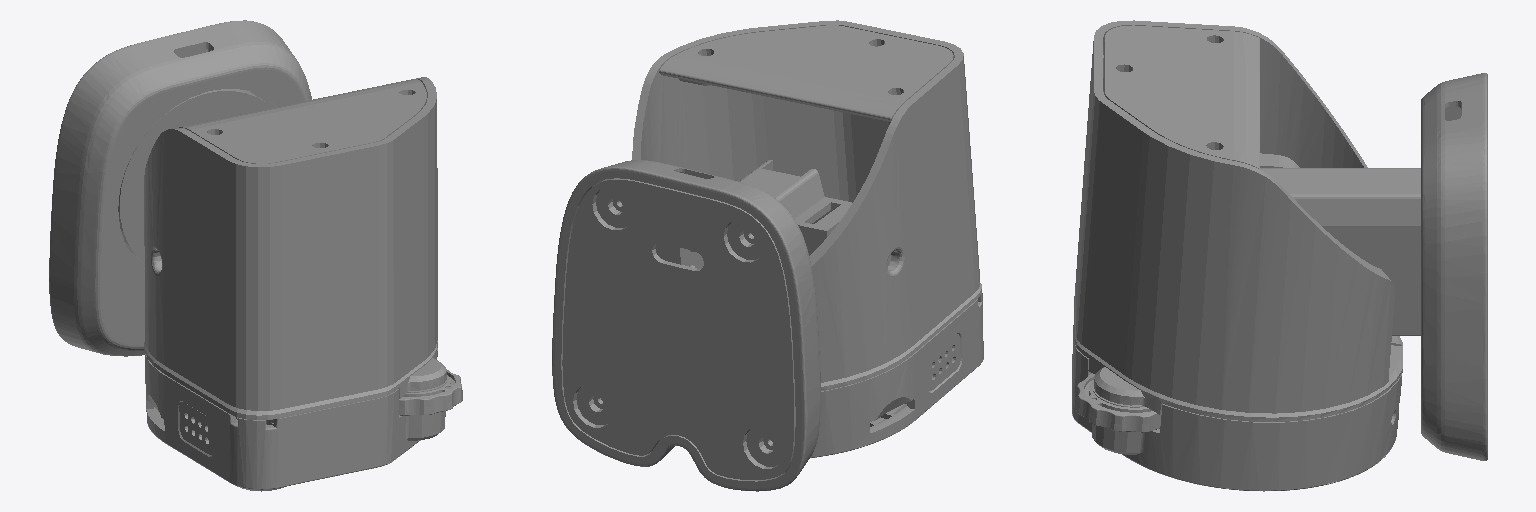
robot.urdf — lingks.SLDASM:
<?xml version="1.0" encoding="utf-8"?>
<!-- This URDF was automatically created by SolidWorks to URDF Exporter! Originally created by Stephen Brawner (brawner@gmail.com) 
     Commit Version: 1.6.0-4-g7f85cfe  Build Version: 1.6.7995.38578
     For more information, please see http://wiki.ros.org/sw_urdf_exporter -->
<robot
  name="lingks.SLDASM">
  <link
    name="base_link">
    <inertial>
      <origin
        xyz="-0.0212 -0.031716 -0.04433"
        rpy="0 0 0" />
      <mass
        value="0.026442" />
      <inertia
        ixx="1.2805E-05"
        ixy="2.4138E-08"
        ixz="2.3275E-09"
        iyy="1.1503E-05"
        iyz="9.7491E-09"
        izz="2.3676E-05" />
    </inertial>
    <visual>
      <origin
        xyz="0 0 0"
        rpy="0 0 0" />
      <geometry>
        <mesh
          filename="package://lingks.SLDASM/meshes/base_link.STL" />
      </geometry>
      <material
        name="">
        <color
          rgba="0.62745 0.62745 0.62745 1" />
      </material>
    </visual>
    <collision>
      <origin
        xyz="0 0 0"
        rpy="0 0 0" />
      <geometry>
        <mesh
          filename="package://lingks.SLDASM/meshes/base_link.STL" />
      </geometry>
    </collision>
  </link>
  <link
    name="link1">
    <inertial>
      <origin
        xyz="6.4754E-05 -0.001525 -0.019837"
        rpy="0 0 0" />
      <mass
        value="0.010597" />
      <inertia
        ixx="2.3063E-06"
        ixy="4.5099E-08"
        ixz="-3.6642E-09"
        iyy="3.0458E-06"
        iyz="1.7622E-07"
        izz="1.444E-06" />
    </inertial>
    <visual>
      <origin
        xyz="0 0 0"
        rpy="0 0 0" />
      <geometry>
        <mesh
          filename="package://lingks.SLDASM/meshes/link1.STL" />
      </geometry>
      <material
        name="">
        <color
          rgba="0.62745 0.62745 0.62745 1" />
      </material>
    </visual>
    <collision>
      <origin
        xyz="0 0 0"
        rpy="0 0 0" />
      <geometry>
        <mesh
          filename="package://lingks.SLDASM/meshes/link1.STL" />
      </geometry>
    </collision>
  </link>
  <joint
    name="joint1"
    type="continuous">
    <origin
      xyz="-0.0209999999996985 0 -0.0217499999996899"
      rpy="1.5707963267949 0.0367776961816941 0" />
    <parent
      link="base_link" />
    <child
      link="link1" />
    <axis
      xyz="0 0 1" />
  </joint>
  <link
    name="link2">
    <inertial>
      <origin
        xyz="-0.0012092 -0.014658 0.012456"
        rpy="0 0 0" />
      <mass
        value="0.050538" />
      <inertia
        ixx="2.4921E-05"
        ixy="-1.2583E-08"
        ixz="2.7527E-06"
        iyy="4.1334E-05"
        iyz="-1.9932E-06"
        izz="2.8613E-05" />
    </inertial>
    <visual>
      <origin
        xyz="0 0 0"
        rpy="0 0 0" />
      <geometry>
        <mesh
          filename="package://lingks.SLDASM/meshes/link2.STL" />
      </geometry>
      <material
        name="">
        <color
          rgba="0.62745 0.62745 0.62745 1" />
      </material>
    </visual>
    <collision>
      <origin
        xyz="0 0 0"
        rpy="0 0 0" />
      <geometry>
        <mesh
          filename="package://lingks.SLDASM/meshes/link2.STL" />
      </geometry>
    </collision>
  </link>
  <joint
    name="joint2"
    type="continuous">
    <origin
      xyz="0 0 -0.00775458892831293"
      rpy="-0.0663868244272319 1.64661701168685E-05 -3.34691104104904E-05" />
    <parent
      link="link1" />
    <child
      link="link2" />
    <axis
      xyz="-0.999999999304342 -3.23030508072447E-05 -1.86501747391106E-05" />
  </joint>
</robot>

--- What the picture shows (computed from the rendered views, not written in the file) ---
The picture shows the robot from 3 angles, left to right: view 1: azimuth 30°, elevation 25°; view 2: azimuth 150°, elevation 25°; view 3: azimuth 270°, elevation 25°; orthographic projection.
Model lingks.SLDASM with 3 links and 2 joints (2 continuous), rooted at base_link, posed every joint at zero.
Links seen in each view (by area): view 1: link2, base_link, link1; view 2: link2, base_link, link1; view 3: link2, base_link, link1.
Boxes of the visible links, left/top/right/bottom form: link2: left=144, top=77, right=462, bottom=491; base_link: left=49, top=20, right=311, bottom=356; link1: left=118, top=89, right=271, bottom=263; link2: left=632, top=20, right=983, bottom=457; base_link: left=552, top=160, right=820, bottom=491; link1: left=655, top=160, right=851, bottom=268; link2: left=1072, top=20, right=1402, bottom=491; base_link: left=1421, top=73, right=1487, bottom=460; link1: left=1260, top=168, right=1420, bottom=335.
Size in the robot's own frame: 0.0678 by 0.0872 by 0.0826 metres.
3 mesh visuals loaded from 3 distinct referenced files (3 binary STL).
